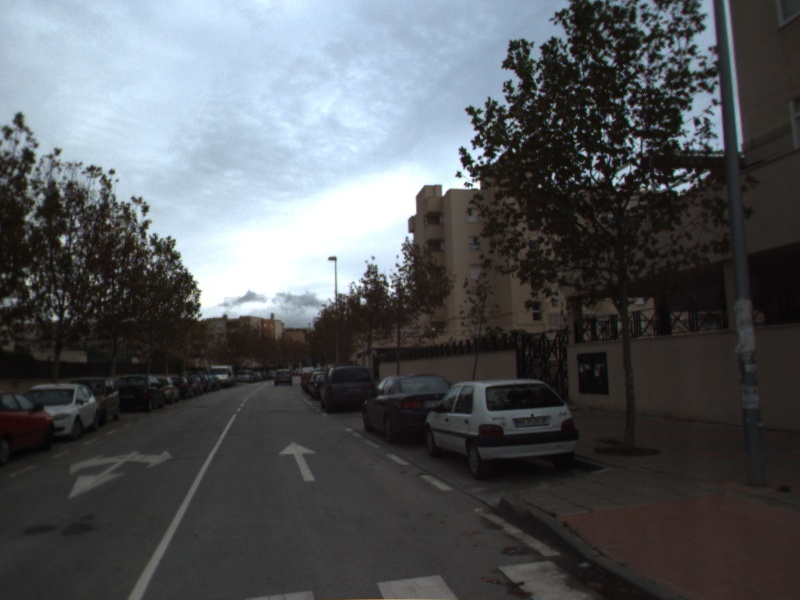STRAIGHT: (277, 440, 319, 483)
